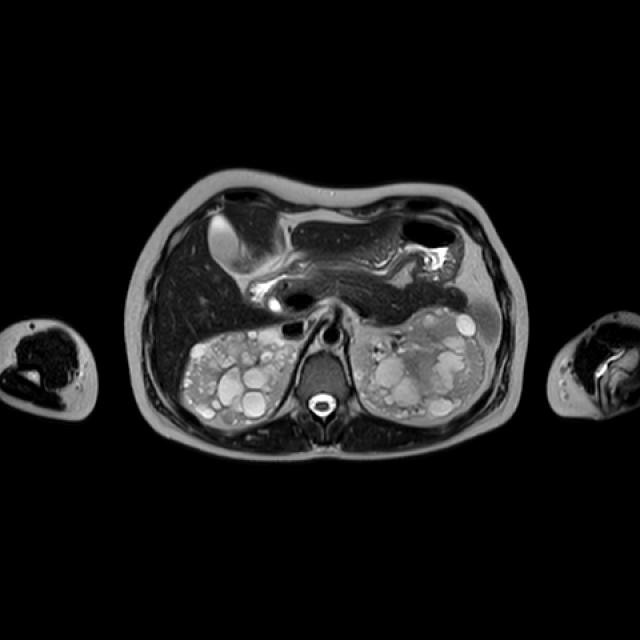sag: (183, 329, 299, 423)
sol: (352, 306, 485, 423)
